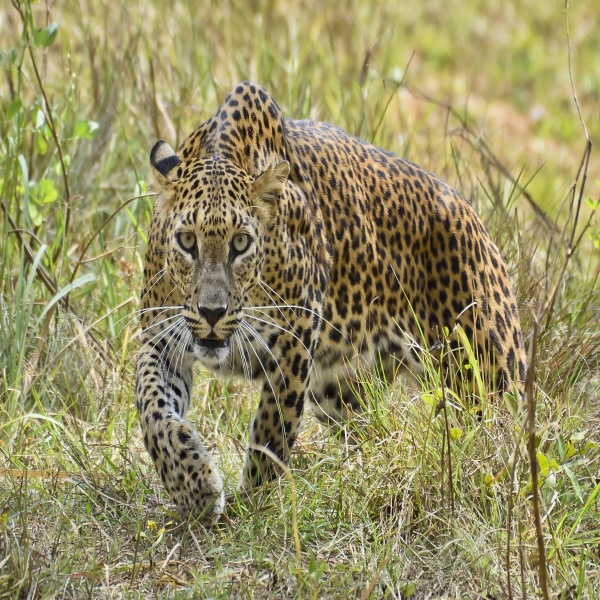Leopard: (125, 74, 533, 531)
